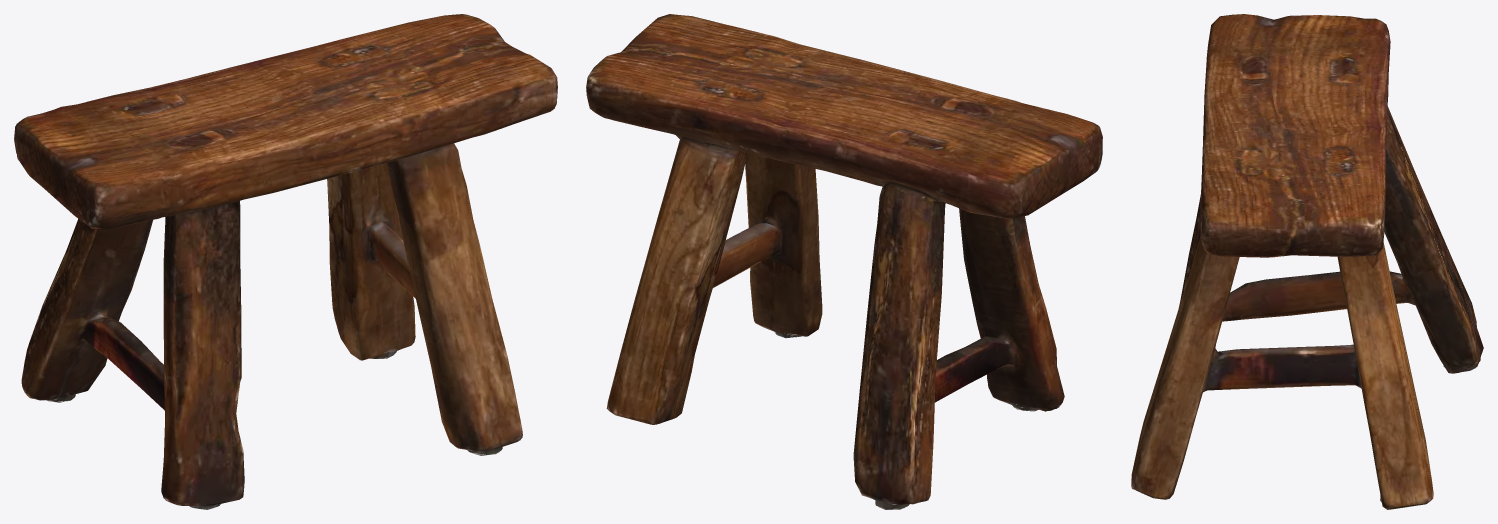
File: wooden_stool_02.glb
The picture shows the model from 3 angles, left to right: view 1: azimuth 30°, elevation 25°; view 2: azimuth 150°, elevation 25°; view 3: azimuth 270°, elevation 25°; orthographic projection. The views are drawn at different scales.
Visible parts, largest first — view 1: wooden_stool_02; view 2: wooden_stool_02; view 3: wooden_stool_02.
Part boxes in pixels (x1,y1,x2,y2): wooden_stool_02: (14,14,557,509); wooden_stool_02: (586,14,1102,509); wooden_stool_02: (1131,14,1483,509).
Bounding box in the file's own units: 0.2651 × 0.182 × 0.1832.
1 material, 1 textured.
